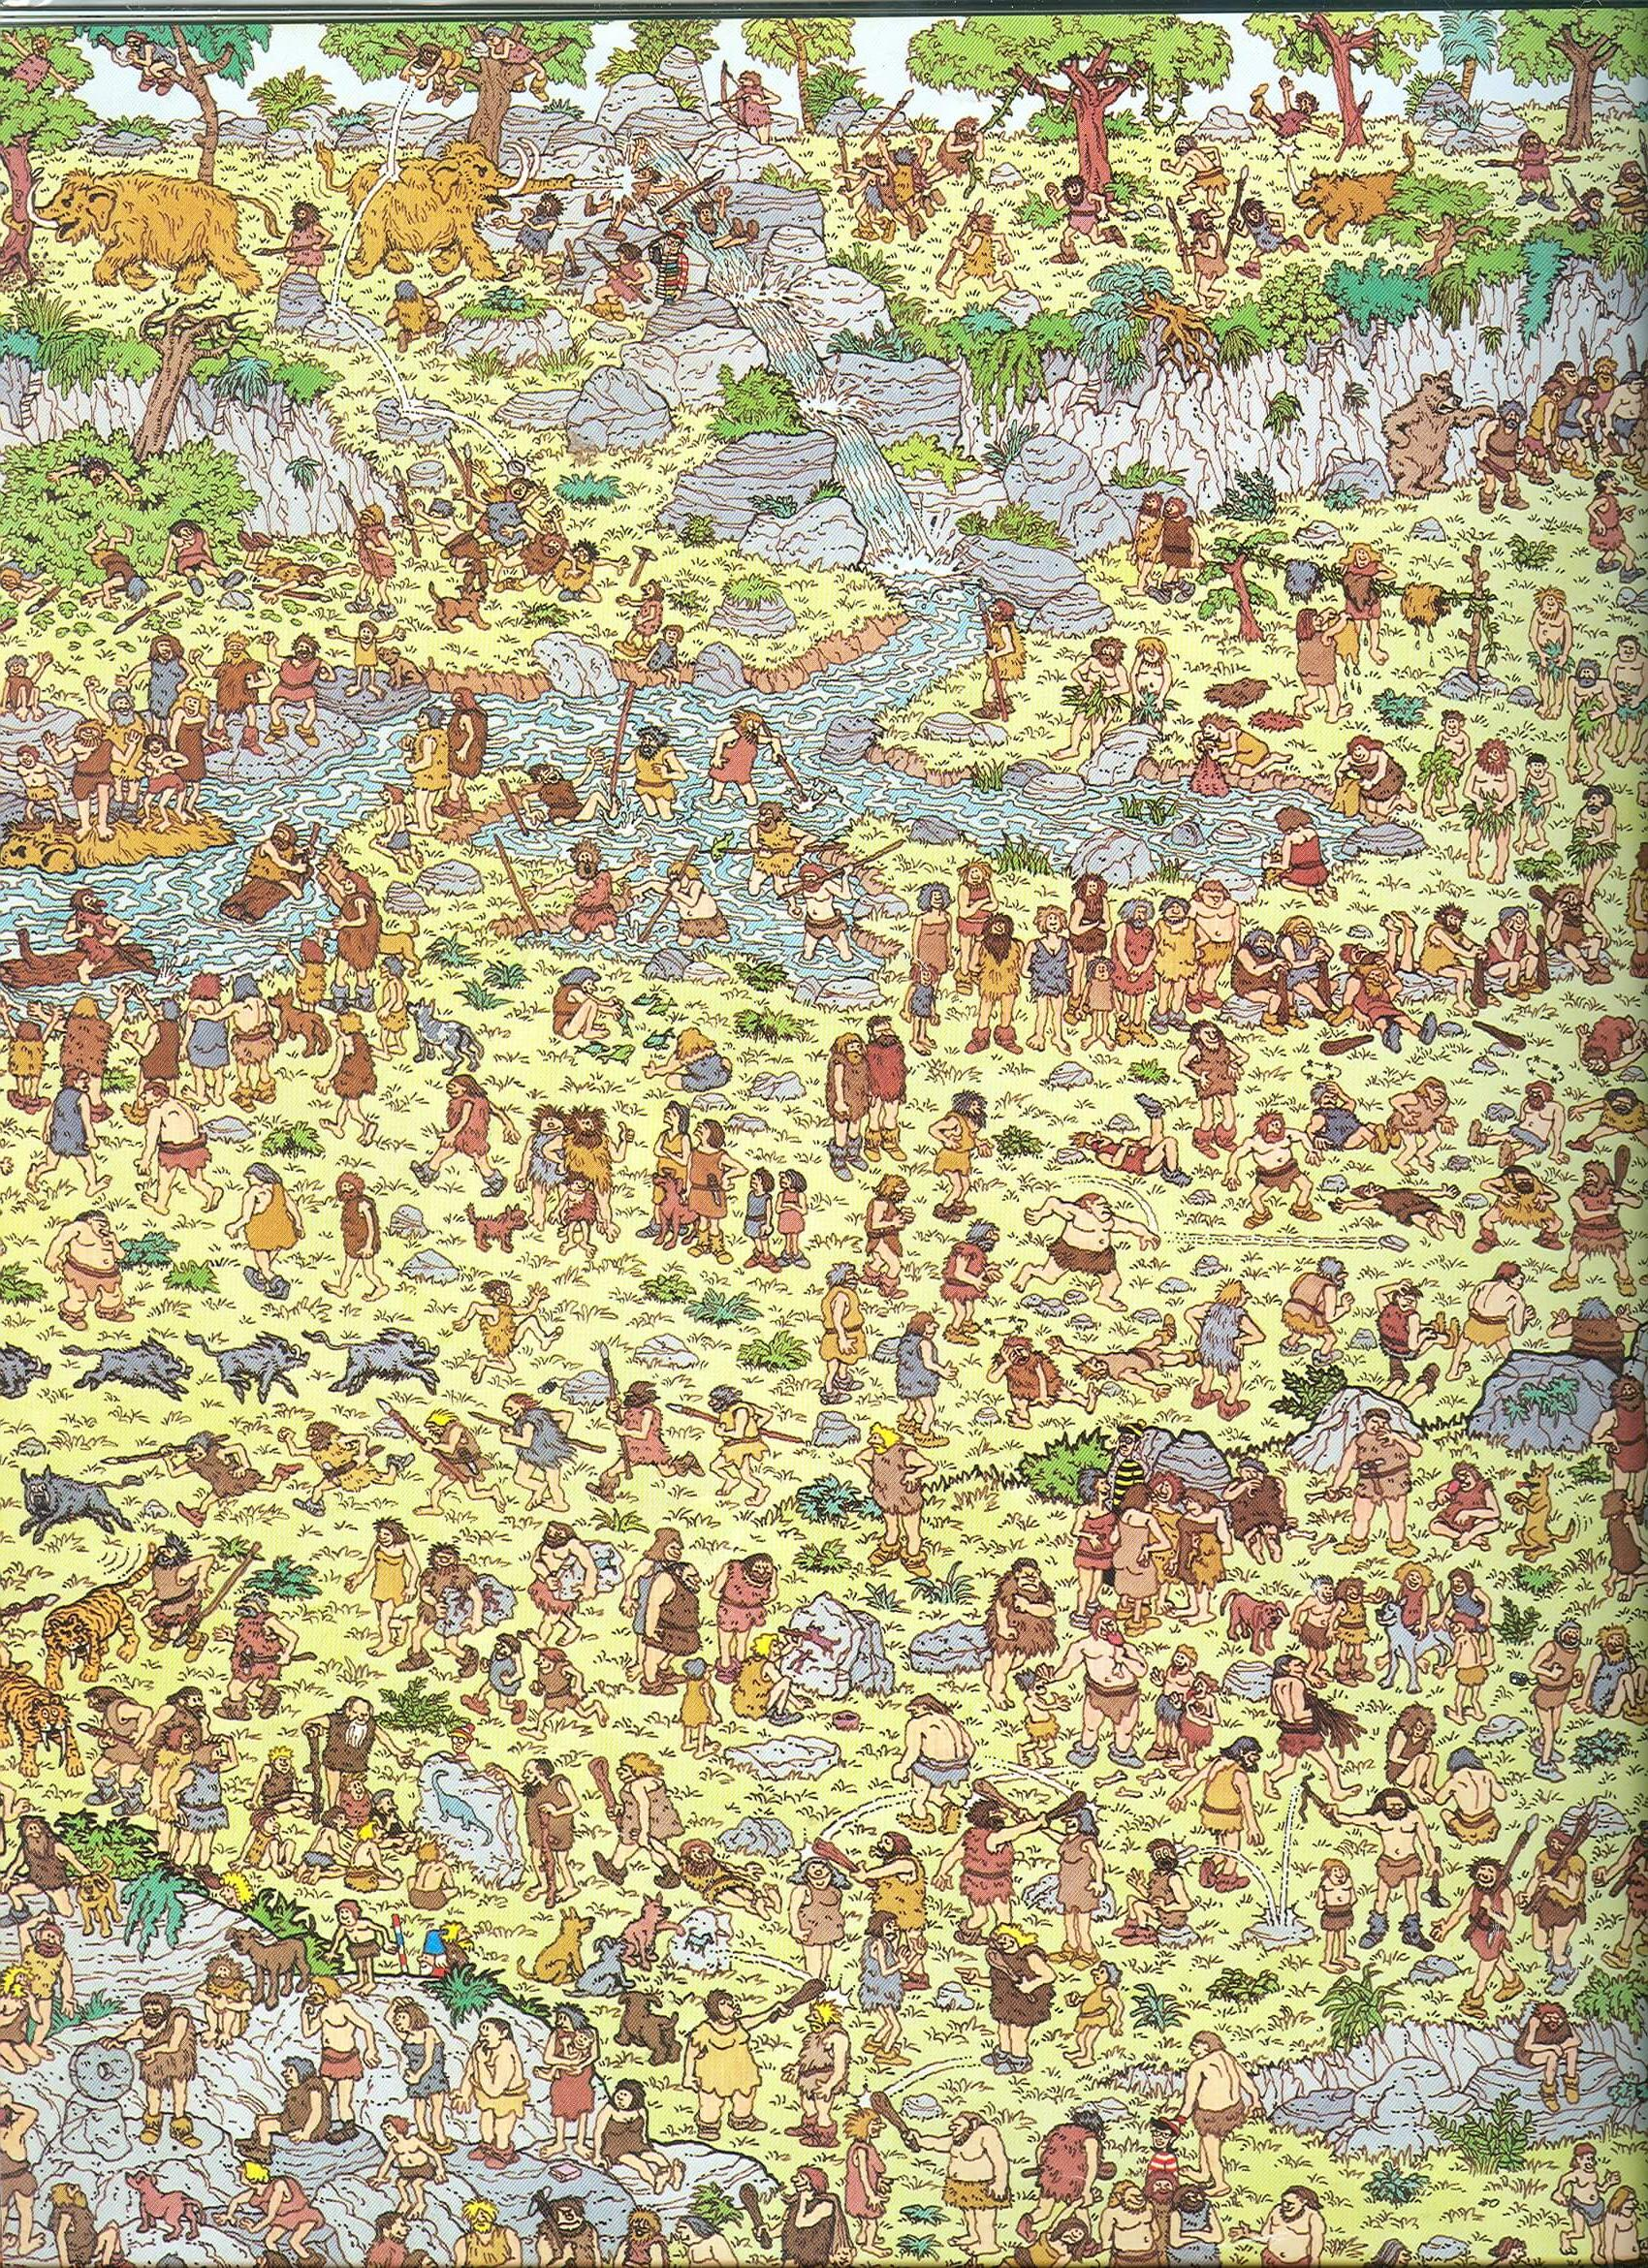waldos: (650, 218, 692, 305)
